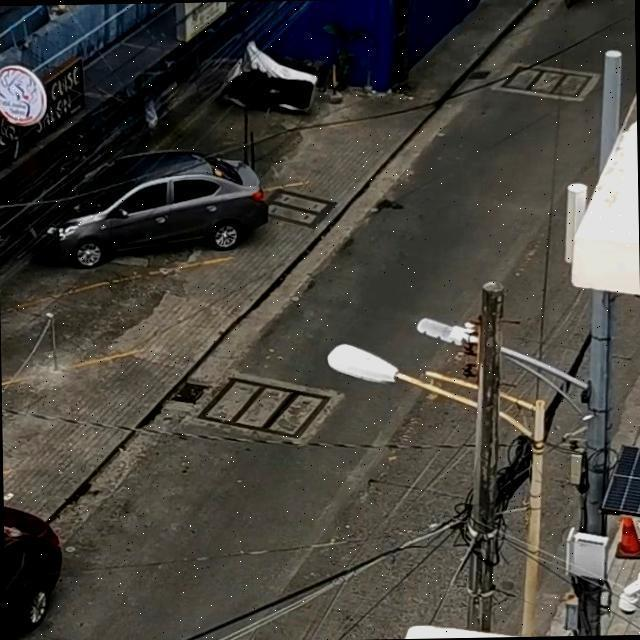Bike: (541, 0, 607, 26)
